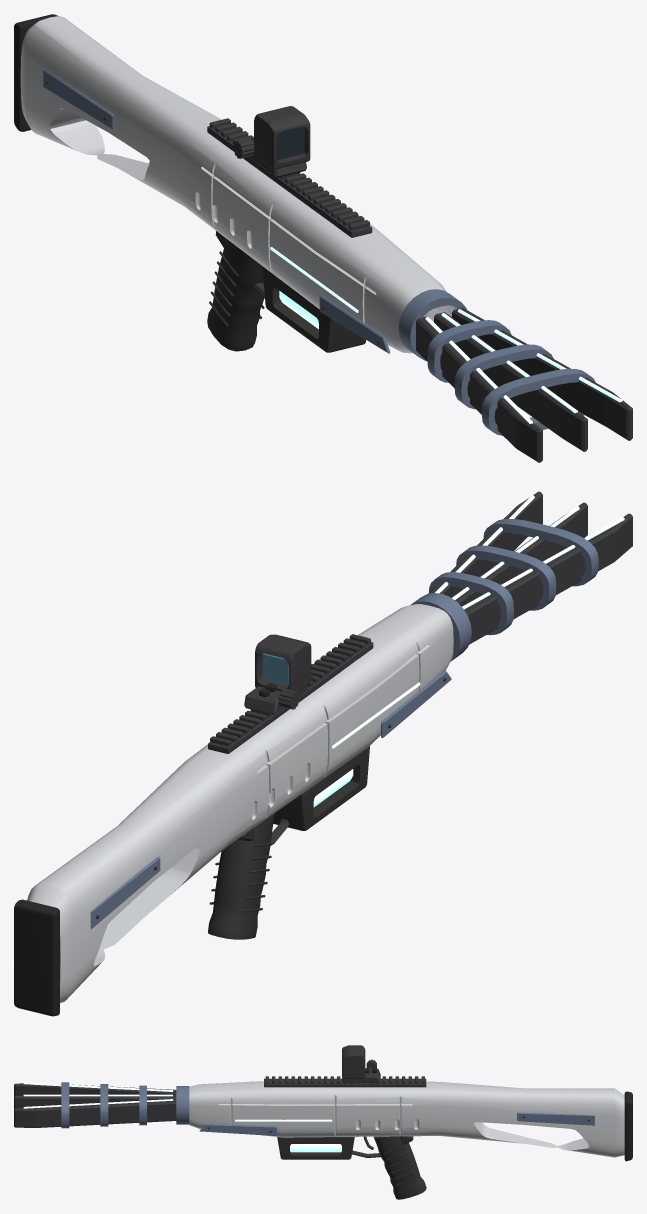
File: fracture.glb
3 views of the same model, one above another, from view 1: azimuth 30°, elevation 25°; view 2: azimuth 150°, elevation 25°; view 3: azimuth 270°, elevation 25° (orthographic). The views are drawn at different scales.
Parts seen in each view (by area): view 1: Body; view 2: Body; view 3: Body.
Part boxes in pixels (x1,y1,x2,y2): Body: (14,14,632,462); Body: (14,491,632,1016); Body: (14,1045,632,1199).
Bounding box in the file's own units: 0.1081 × 0.2504 × 0.953.
